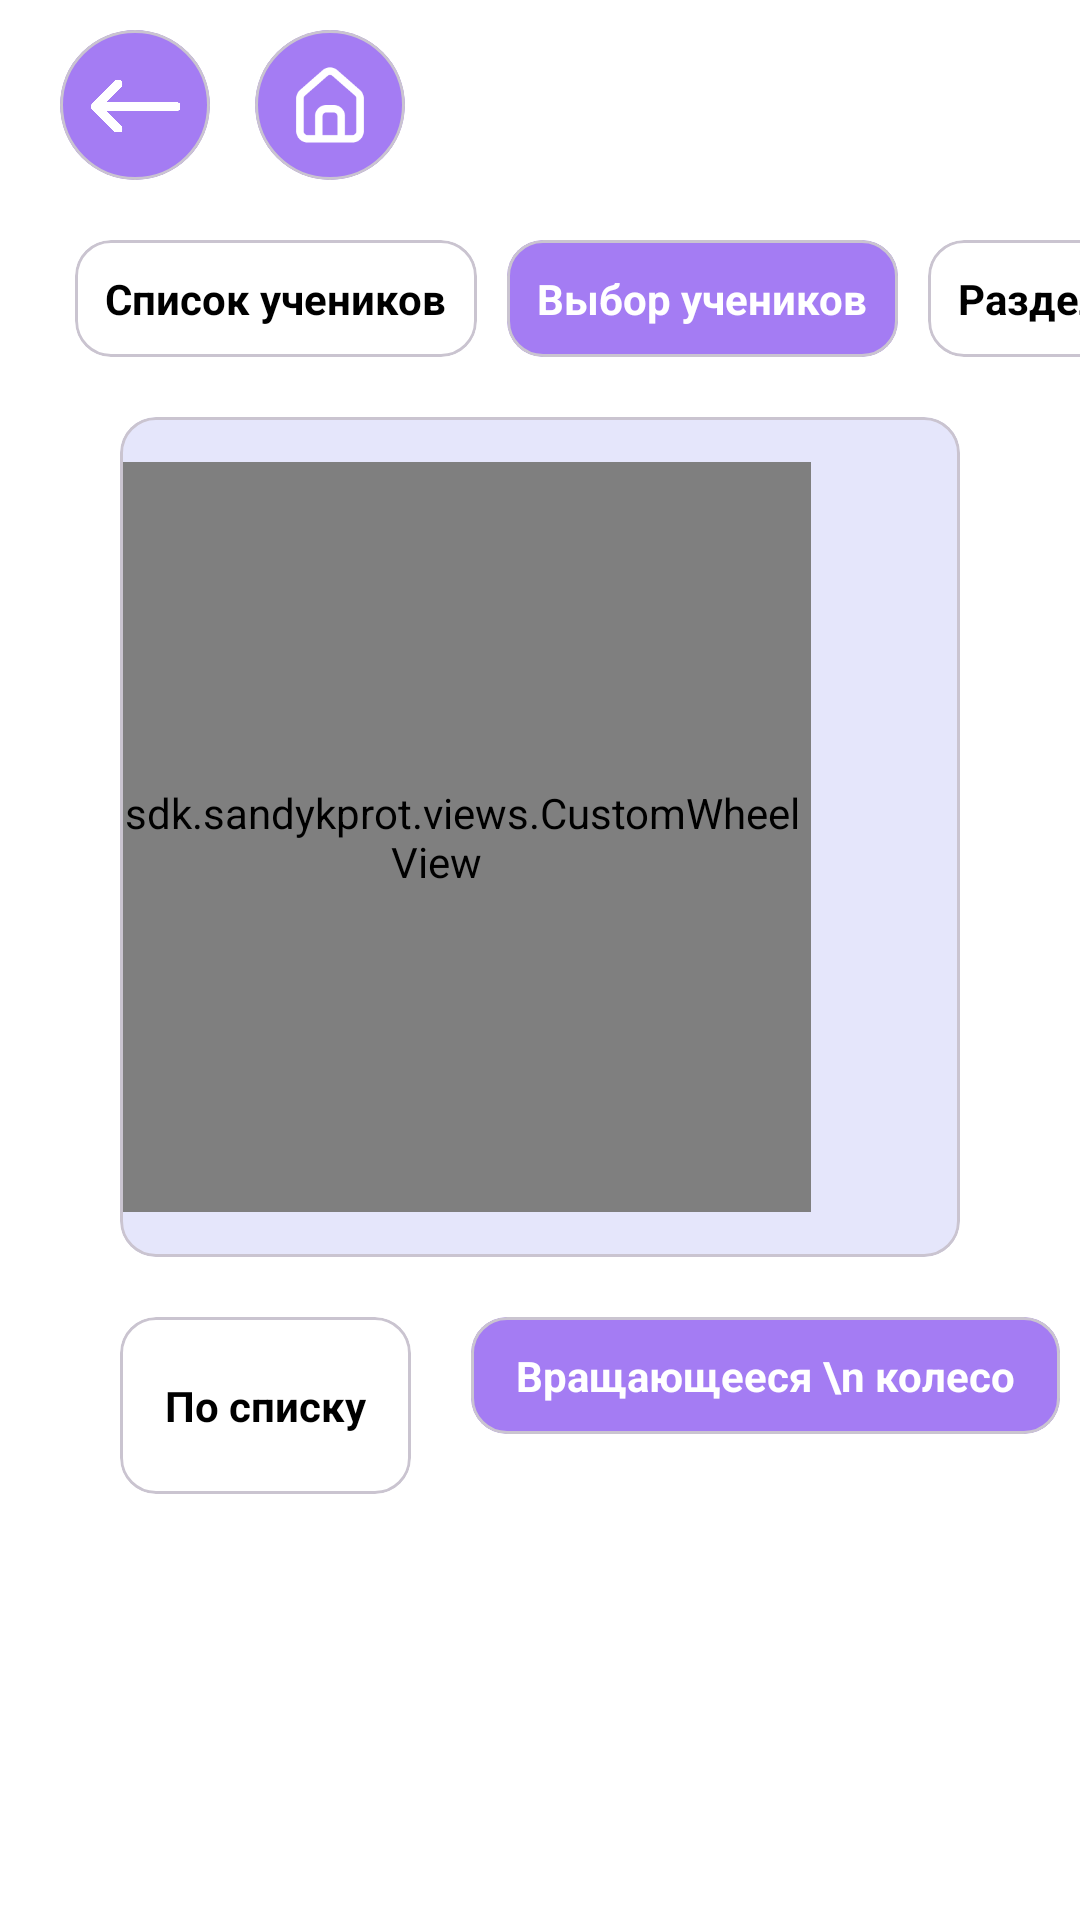

Where icons sit on this 1080w x 1920h app screen, as (x1, y1, x2, y2):
arrow back: (91, 80, 180, 132)
home: (296, 67, 364, 143)
